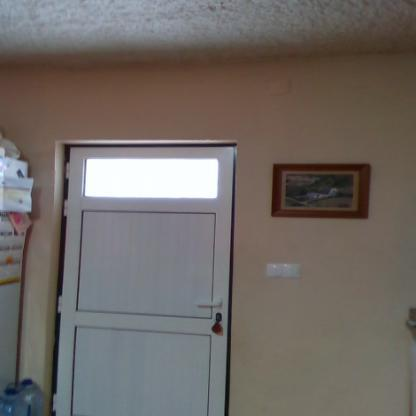door: (68, 148, 230, 416)
hinged: (63, 160, 71, 180), (57, 294, 64, 314), (62, 199, 70, 216), (52, 390, 57, 411)
lever: (192, 300, 226, 309)
